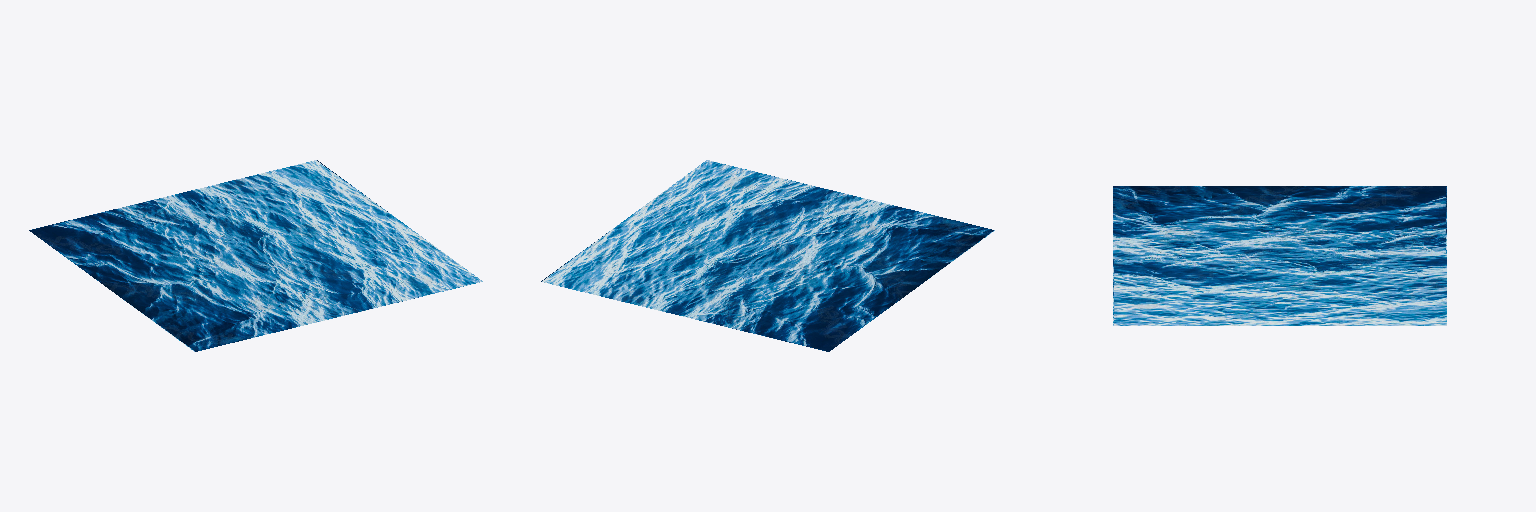
3 renders of one model, left to right at view 1: azimuth 30°, elevation 25°; view 2: azimuth 150°, elevation 25°; view 3: azimuth 270°, elevation 25°, orthographic.
Parts seen in each view (by area): view 1: Sea_pPlane1; view 2: Sea_pPlane1; view 3: Sea_pPlane1.
Boxes of the visible parts, x1=… form: Sea_pPlane1: x1=29, y1=160, x2=482, y2=351; Sea_pPlane1: x1=541, y1=160, x2=994, y2=351; Sea_pPlane1: x1=1113, y1=186, x2=1446, y2=325.
Bounding box in the file's own units: 512 × 0 × 512.
1 materials, 1 textured.